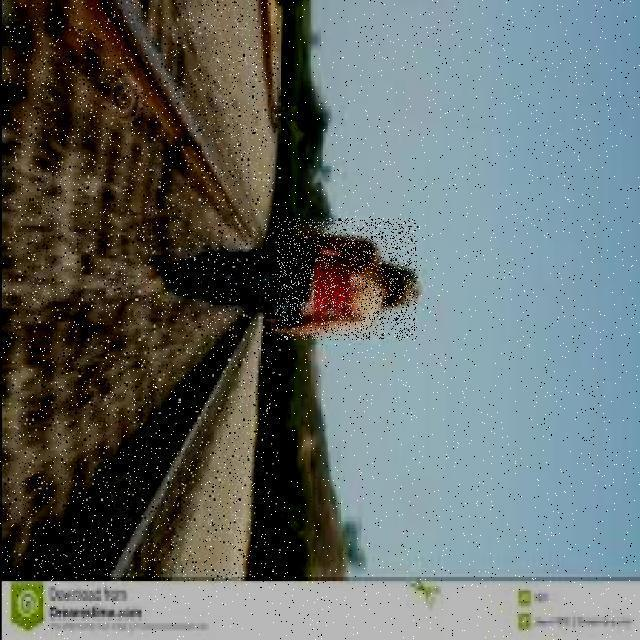danger: (134, 218, 417, 340)
rail: (3, 0, 277, 580)
